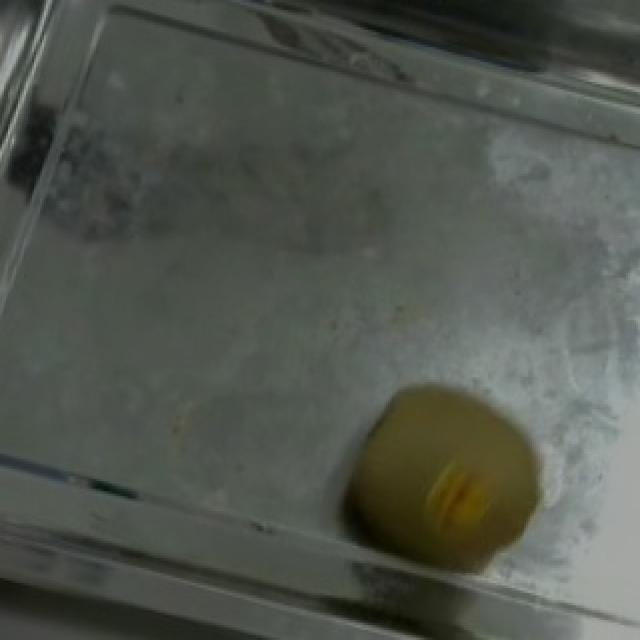Fruit: (310, 362, 576, 605)
